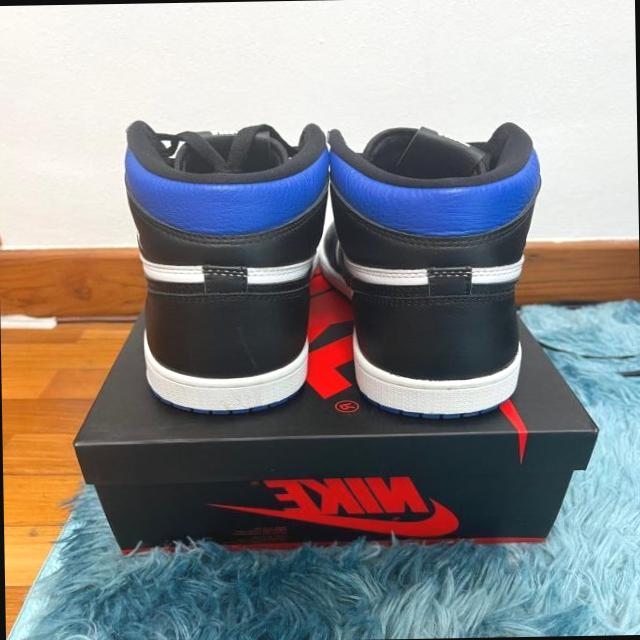nike_original_jordan: (326, 120, 551, 418), (132, 121, 332, 416)
